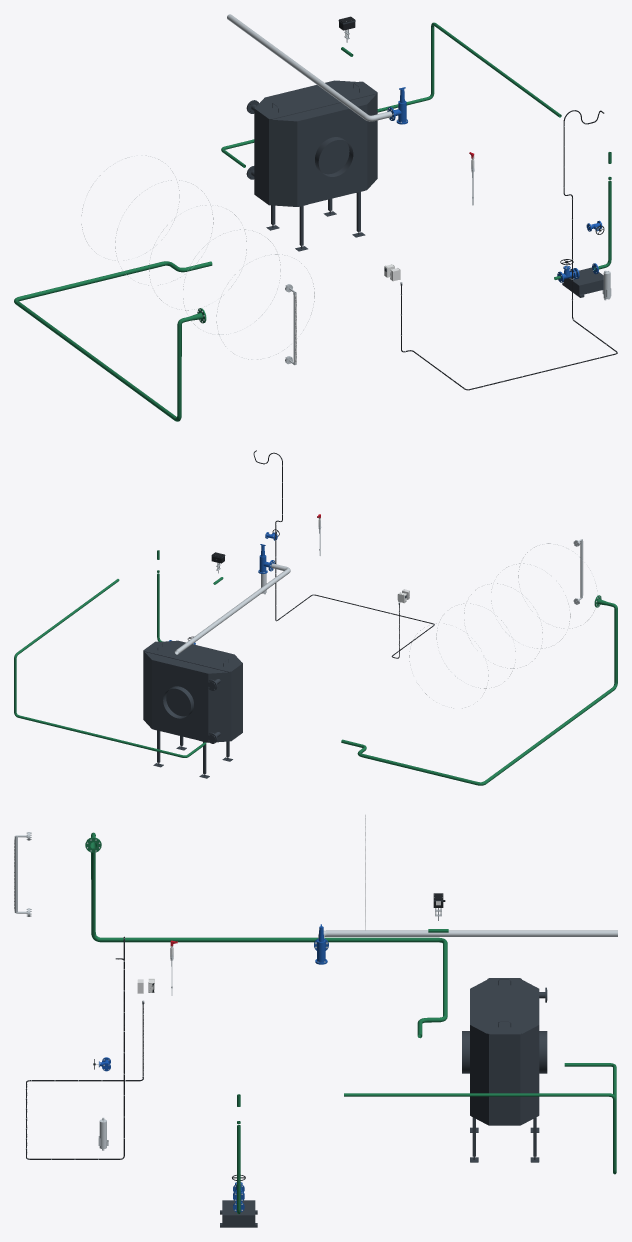
3 renders of one model, top to bottom at view 1: azimuth 30°, elevation 25°; view 2: azimuth 150°, elevation 25°; view 3: azimuth 270°, elevation 25°, orthographic. The views are drawn at different scales.
Visible parts, largest first — view 1: EQS2-5000 CAD 0, EQS2-5000 CAD 3, deaerator_feed / green, EQS2-5000 CAD 1, to_economizer / green, safety_vent_2 / steel, wiring_pressure_switch_2 / black, deaerator_details / steel, pump_branch_1 / dark; view 2: EQS2-5000 CAD 0, EQS2-5000 CAD 3, deaerator_feed / green, EQS2-5000 CAD 2, to_economizer / green, safety_vent_2 / steel, wiring_pressure_switch_2 / black, deaerator_details / steel; view 3: EQS2-5000 CAD 3, deaerator_feed / green, safety_vent_2 / steel, to_economizer / green, EQS2-5000 CAD 0, wiring_pressure_switch_2 / black, pump_branch_1 / dark, deaerator_details / steel.
Boxes of the visible parts, x1,y1,x2,y2 form: EQS2-5000 CAD 0: [266, 104, 367, 251]; EQS2-5000 CAD 3: [254, 80, 377, 204]; deaerator_feed / green: [14, 261, 212, 421]; EQS2-5000 CAD 1: [269, 119, 297, 206]; to_economizer / green: [221, 22, 561, 167]; safety_vent_2 / steel: [227, 14, 392, 121]; wiring_pressure_switch_2 / black: [401, 110, 617, 390]; deaerator_details / steel: [81, 155, 314, 365]; pump_branch_1 / dark: [562, 267, 603, 297]; EQS2-5000 CAD 0: [152, 660, 232, 778]; EQS2-5000 CAD 3: [143, 640, 242, 740]; deaerator_feed / green: [341, 595, 617, 785]; EQS2-5000 CAD 2: [207, 672, 231, 743]; to_economizer / green: [14, 579, 206, 757]; safety_vent_2 / steel: [174, 563, 290, 654]; wiring_pressure_switch_2 / black: [253, 450, 434, 658]; deaerator_details / steel: [409, 539, 597, 708]; EQS2-5000 CAD 3: [470, 978, 539, 1125]; deaerator_feed / green: [85, 832, 447, 1038]; safety_vent_2 / steel: [318, 930, 617, 938]; to_economizer / green: [344, 1063, 616, 1174]; EQS2-5000 CAD 0: [462, 1031, 547, 1162]; wiring_pressure_switch_2 / black: [26, 936, 143, 1159]; pump_branch_1 / dark: [220, 1200, 257, 1227]; deaerator_details / steel: [14, 815, 365, 929].
Size of the model in its own units: 7.3 by 3.27 by 7.17.
